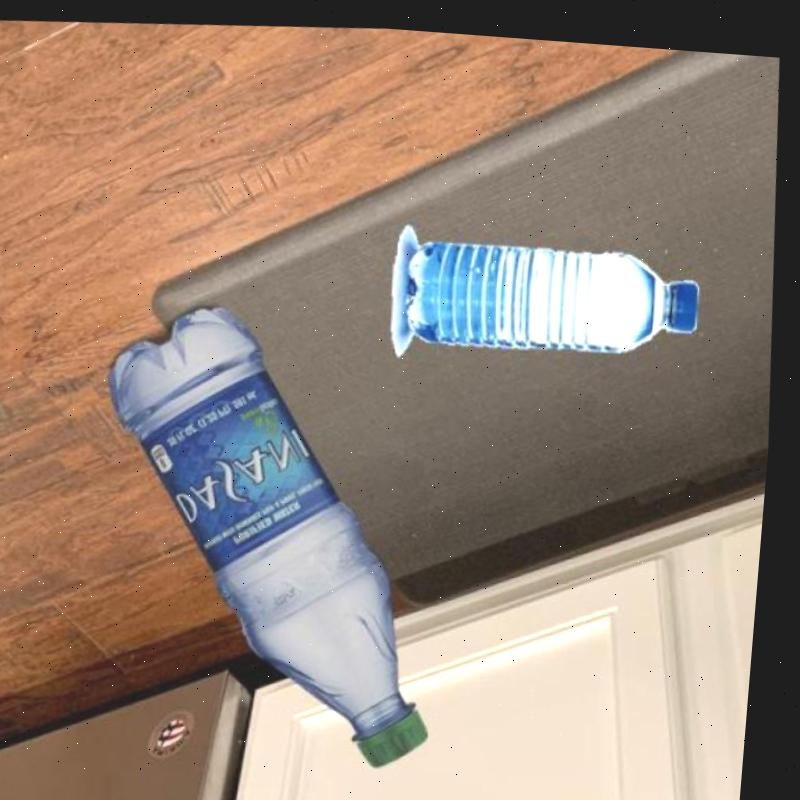botella: (87, 285, 467, 779), (409, 221, 708, 358)
